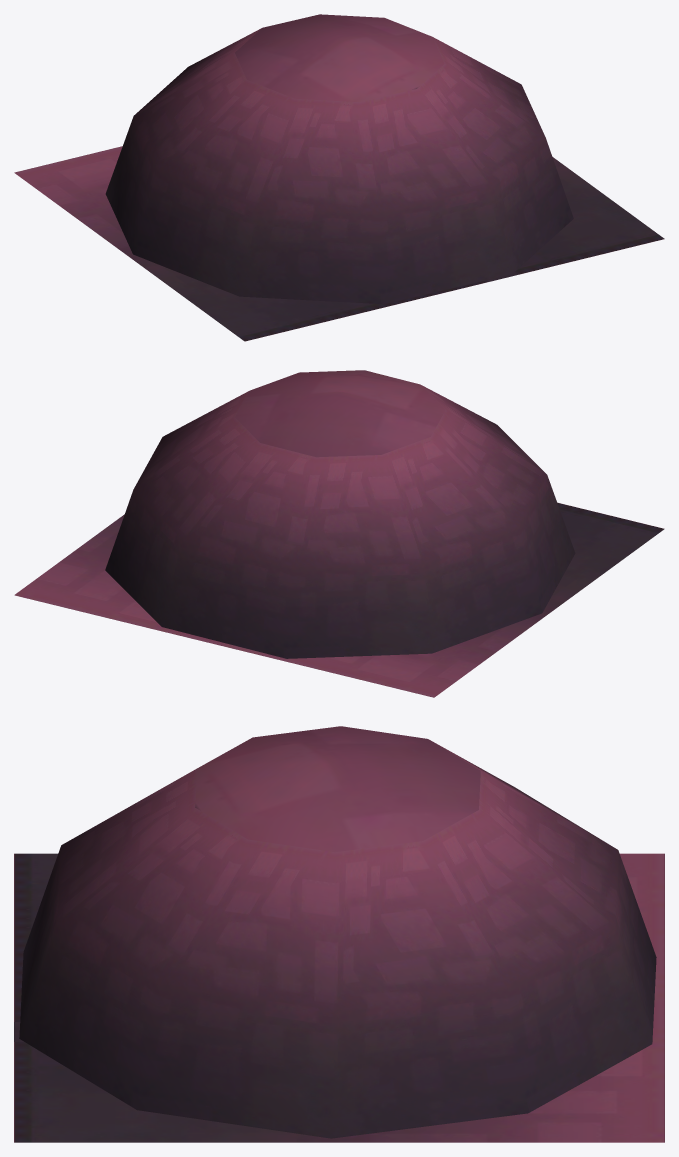
Rendered from Combined_Mesh_root_scene__18_bcf75302__churchyard_diffuse_06_41a13a3e_c1f257.obj.
3 views of the same model, one above another, from view 1: azimuth 30°, elevation 25°; view 2: azimuth 150°, elevation 25°; view 3: azimuth 270°, elevation 25° (orthographic). The views are drawn at different scales.
Size of the model in its own units: 139 by 56.25 by 132.
Materials: 189 (189 with a texture image).
